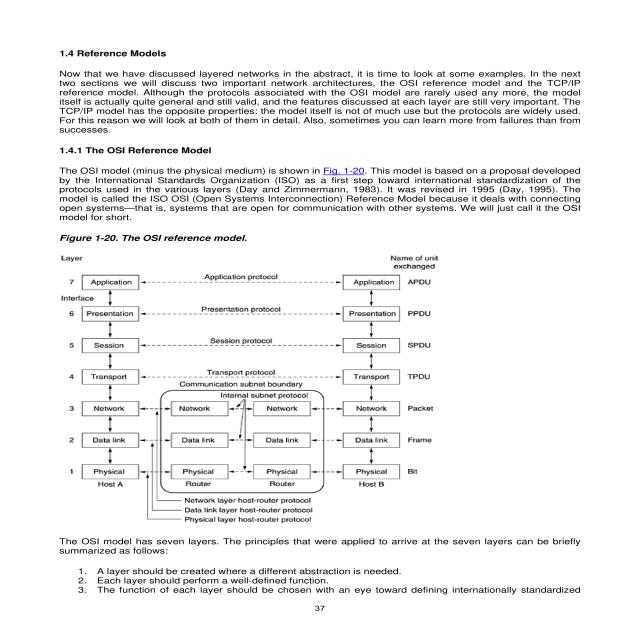diagram: (39, 227, 538, 531)
